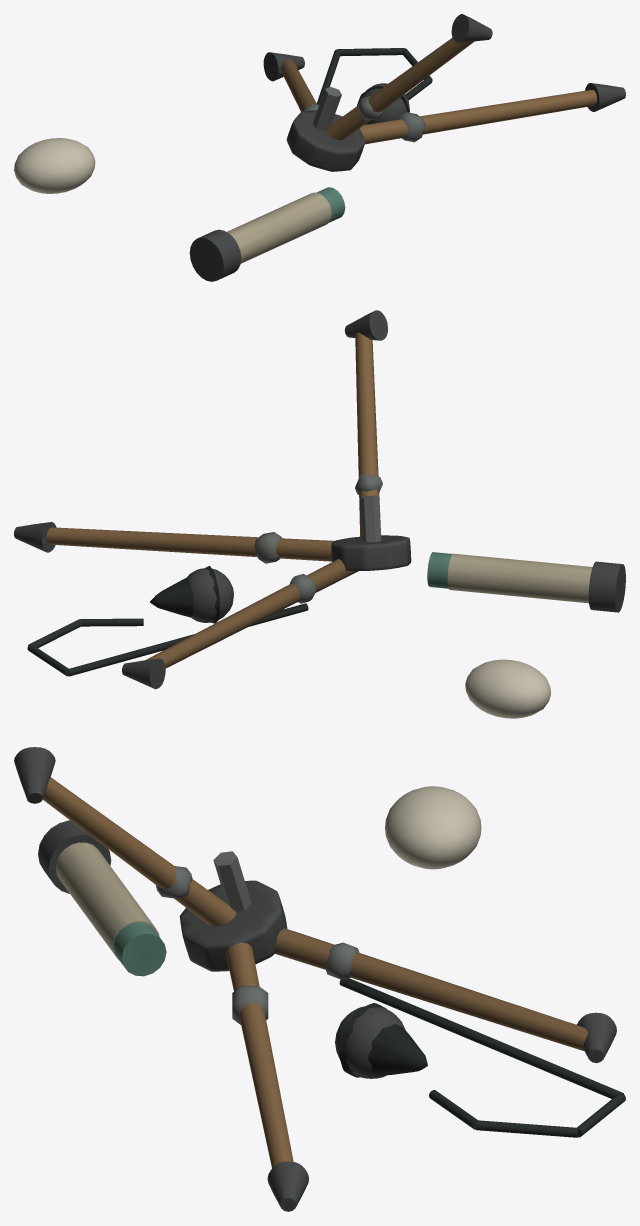
File: survey_tripod_a.glb
The picture shows the model from 3 angles, top to bottom: view 1: azimuth 30°, elevation 25°; view 2: azimuth 150°, elevation 25°; view 3: azimuth 270°, elevation 25°; orthographic projection. The views are drawn at different scales.
Visible parts, largest first — view 1: Surface; view 2: Surface; view 3: Surface.
Boxes of the visible parts, bbox=[...] form: Surface: bbox=[14, 14, 625, 281]; Surface: bbox=[14, 310, 625, 718]; Surface: bbox=[14, 747, 625, 1211].
Size of the model in its own units: 2.49 by 0.9237 by 1.69.
